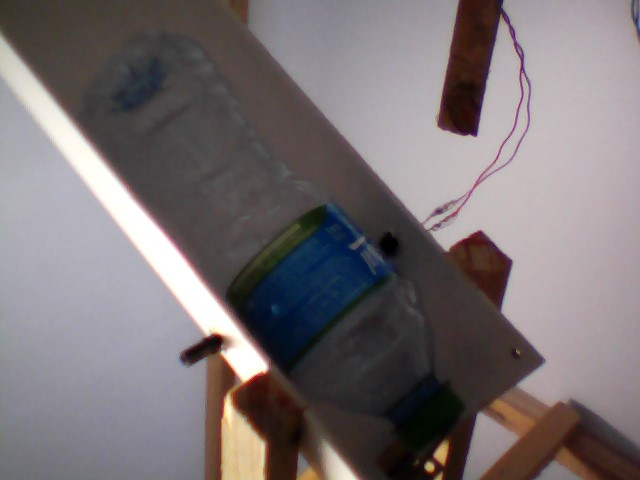plastico: (72, 20, 474, 456)
